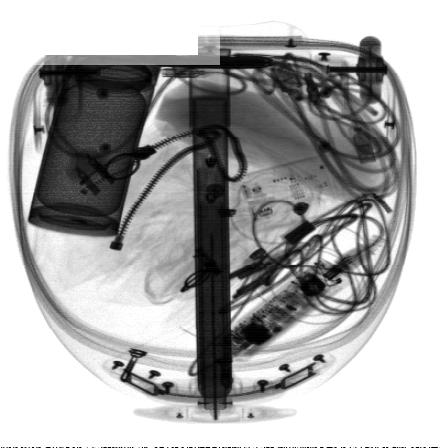Knife: (147, 54, 276, 69)
